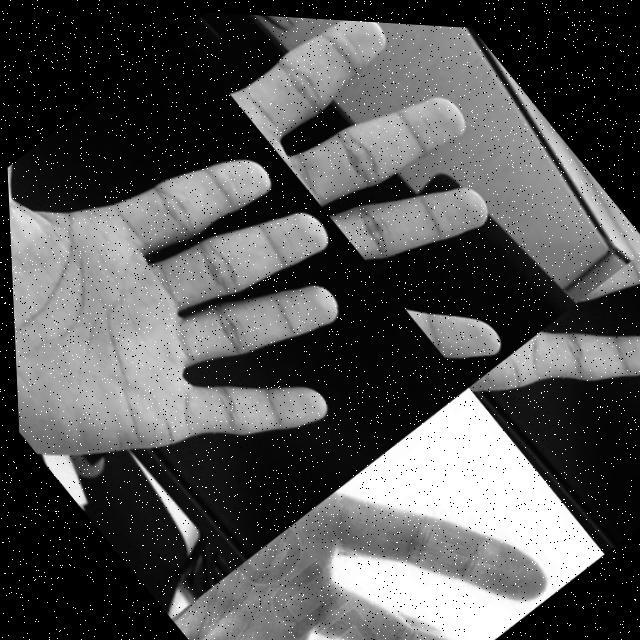no-gloves: (1, 27, 427, 581), (178, 8, 599, 384), (156, 396, 568, 640), (459, 229, 640, 550)
